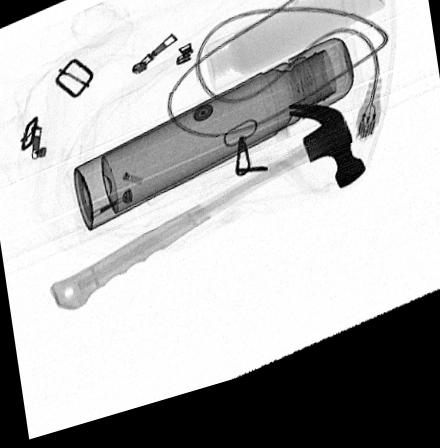Hammer: (49, 120, 366, 315)
